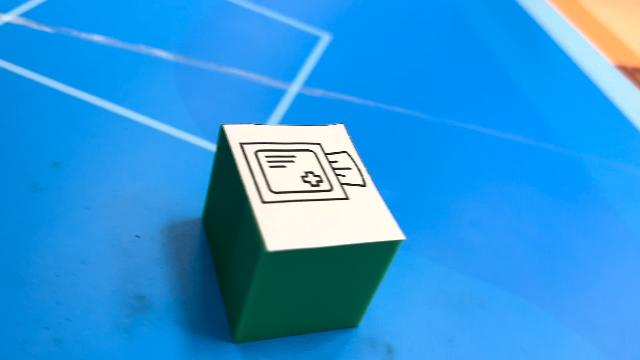napkin: (200, 122, 402, 342)
